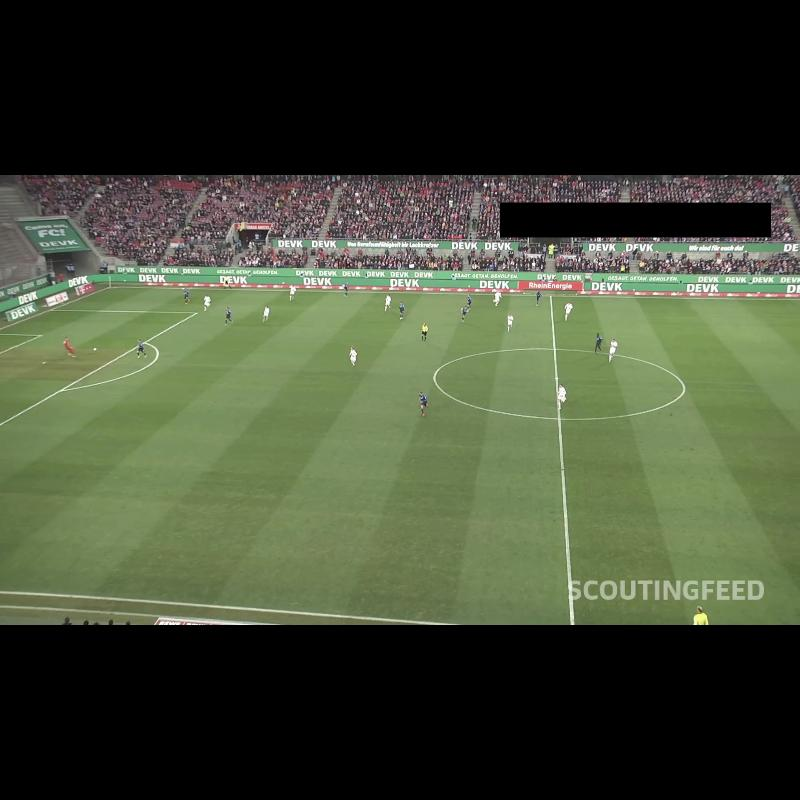cross_recipient_zone: (0, 310, 196, 425)
crossing_player_zone: (0, 454, 121, 566), (52, 287, 331, 316)
pitch: (0, 287, 800, 625)
